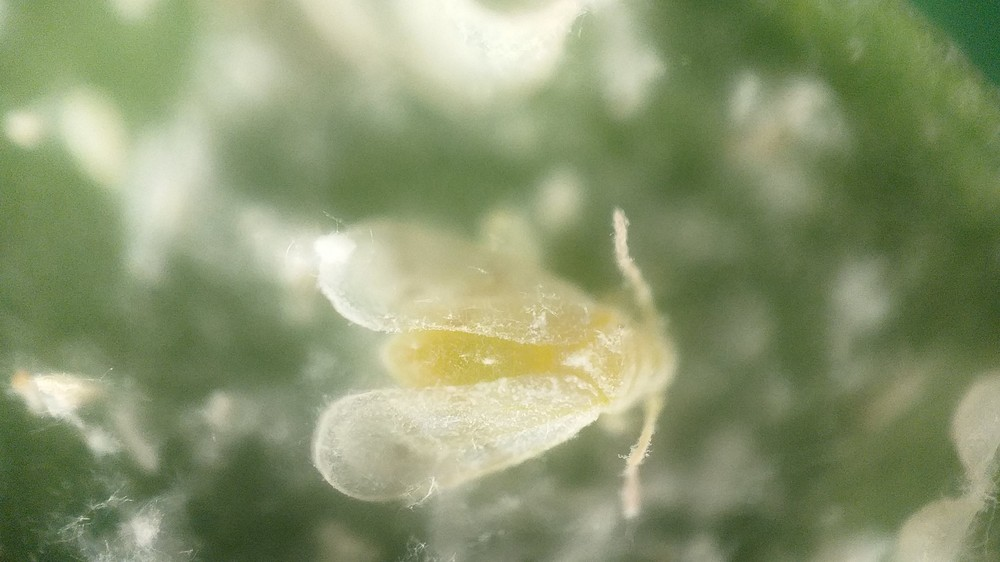Mosca Blanca: (284, 185, 708, 541)
